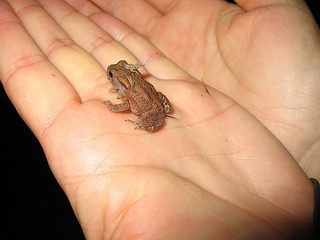palm: (77, 92, 295, 235), (165, 4, 307, 132)
